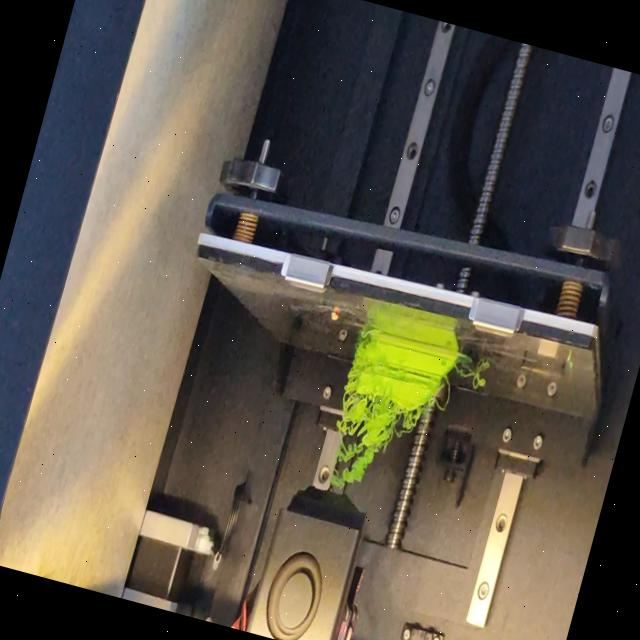spaghetti: (318, 387, 427, 508), (342, 328, 376, 394), (448, 362, 487, 392), (434, 382, 454, 415)
